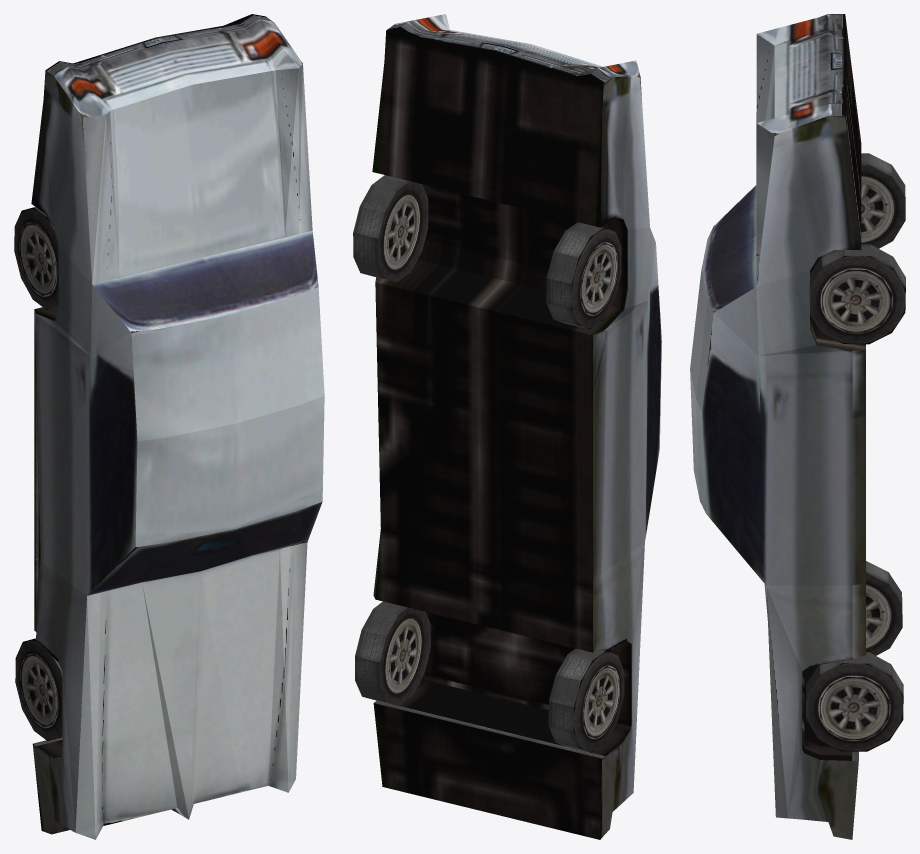
File: carpack_white_wtf.obj
The picture shows the model from 3 angles, left to right: view 1: azimuth 30°, elevation 25°; view 2: azimuth 150°, elevation 25°; view 3: azimuth 270°, elevation 25°; orthographic projection. The views are drawn at different scales.
Visible parts, largest first — view 1: group2; view 2: group2; view 3: group2.
Part boxes in pixels (left/top/right/bottom): group2: left=14, top=14, right=324, bottom=839; group2: left=353, top=14, right=661, bottom=839; group2: left=690, top=14, right=905, bottom=839.
Size of the model in its own units: 208 by 660 by 177.
